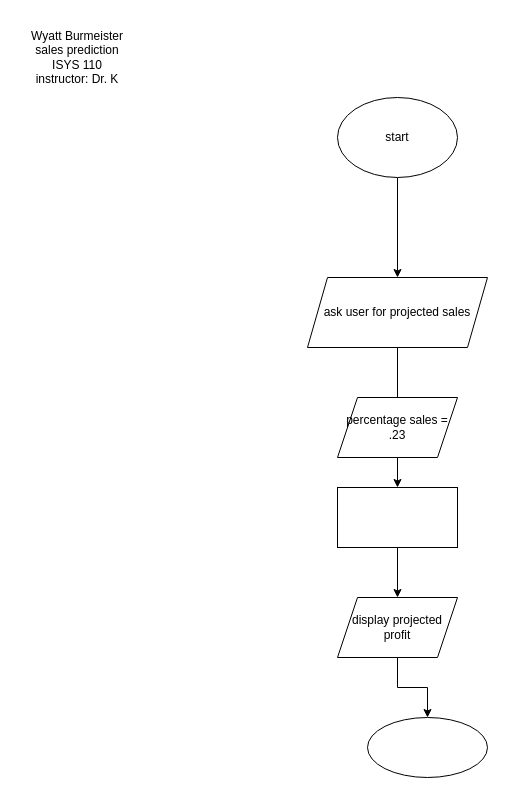
Some shapes in this 505 by 795 pixel diagram are drawn without their labels. The shapes that lost their labels are listed below. From the top down, each one's centre as x and y in pixels, then its label:
At [397,517]: "calculate the projected profit".
At [427,747]: "end".
